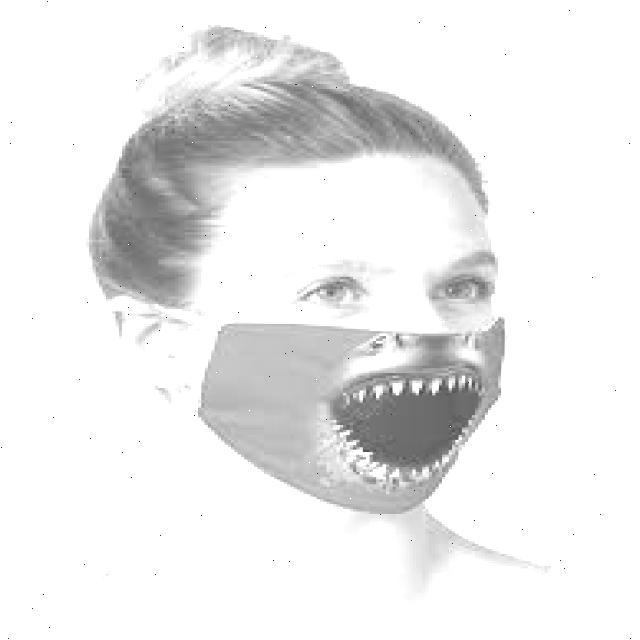fake: (198, 319, 519, 522)
real: (205, 158, 510, 525)
